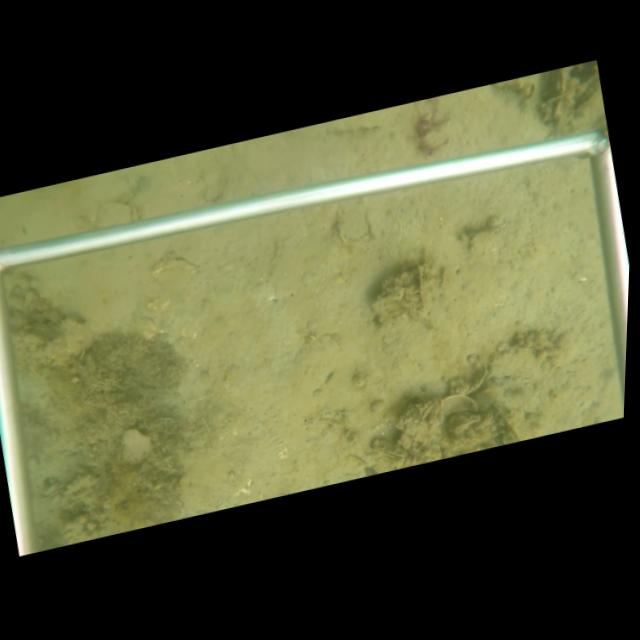Oyster-Closed: (119, 425, 157, 465), (97, 201, 144, 228), (448, 414, 483, 436), (371, 443, 409, 461)
Oyster-Indeterminate: (291, 333, 341, 400), (75, 173, 135, 224), (488, 344, 548, 379), (336, 201, 371, 244)
Oyster-Open: (420, 399, 439, 423)
